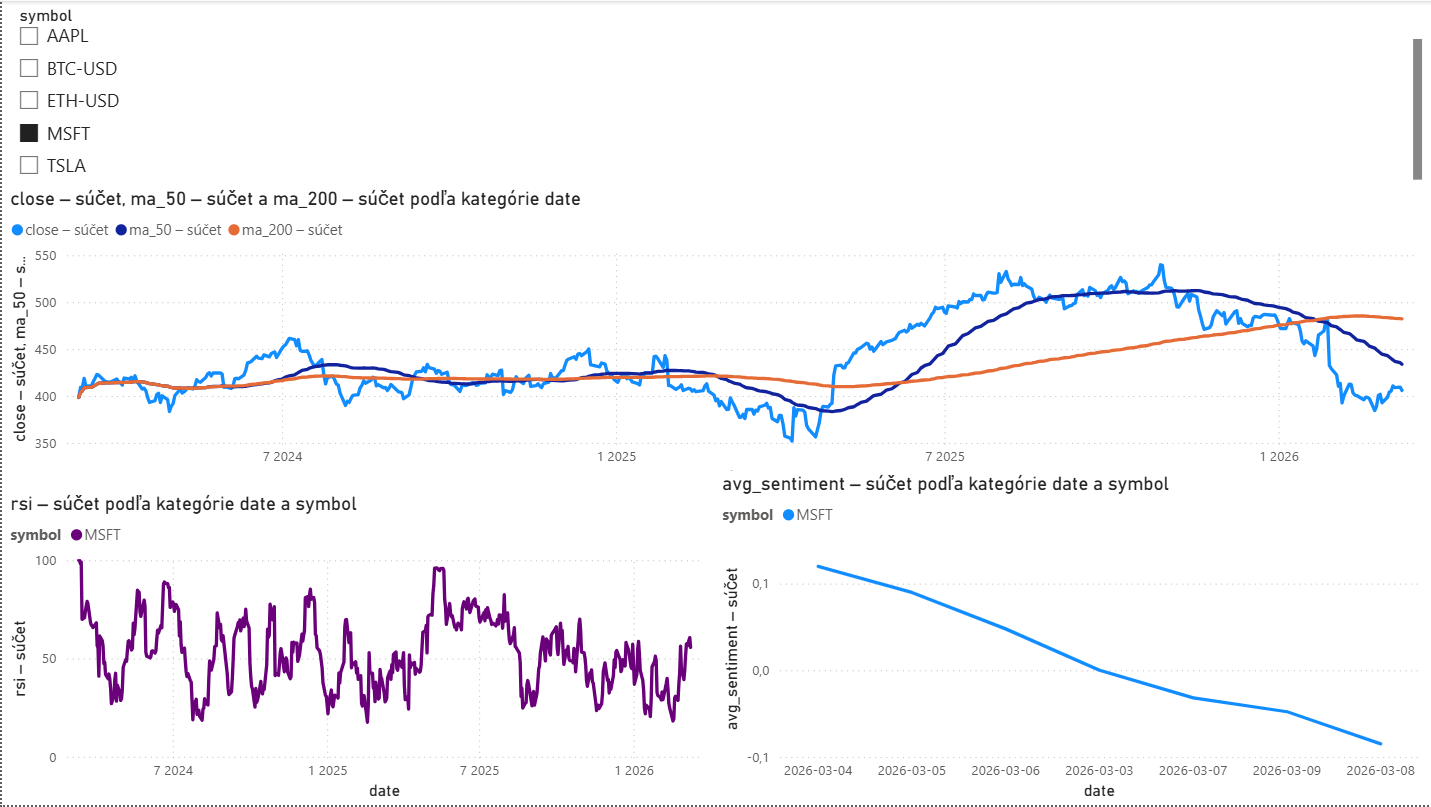

Layout of this report page (visuals, bound fields, positions):
{"tool":"powerbi","page":{"name":"Strana 1","canvas":[1280,720],"ordinal":0},"visuals":[{"type":"lineChart","fields":{"Category":["mart_moving_averages.date"],"Y":["Sum(mart_moving_averages.close)","Sum(mart_moving_averages.ma_50)","Sum(mart_moving_averages.ma_200)"]},"box":[3,165.6,1274,273.4],"z":0},{"type":"lineChart","fields":{"Category":["mart_rsi.date"],"Y":["Sum(mart_rsi.rsi)"],"Series":["mart_rsi.symbol"]},"box":[3,439.1,637,281.3],"z":2},{"type":"slicer","fields":{"Values":["dim_symbols.symbol"]},"box":[3,0,1274,165.6],"z":3},{"type":"lineChart","fields":{"Category":["mart_sentiment_lag.date"],"Y":["Sum(mart_sentiment_lag.avg_sentiment)"],"Series":["mart_sentiment_lag.symbol"]},"box":[640,421,637,299.4],"z":4}]}

Visuals, with their boxes in screenshot pixels (x1, y1, x2, y2), scaled from the page's 1280x720 canvas onto the 1431x807 screenshot:
lineChart - mart_moving_averages.date x Sum(mart_moving_averages.close): (left=3, top=186, right=1428, bottom=492)
lineChart - mart_rsi.date x Sum(mart_rsi.rsi): (left=3, top=492, right=716, bottom=806)
slicer - dim_symbols.symbol: (left=3, top=0, right=1428, bottom=186)
lineChart - mart_sentiment_lag.date x Sum(mart_sentiment_lag.avg_sentiment): (left=716, top=472, right=1428, bottom=806)
